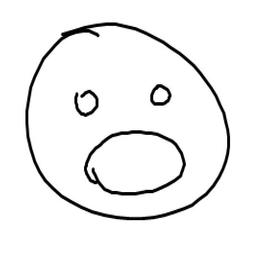empty_eye: (69, 87, 102, 120), (145, 84, 175, 110)
open_mouth: (73, 128, 191, 198)
